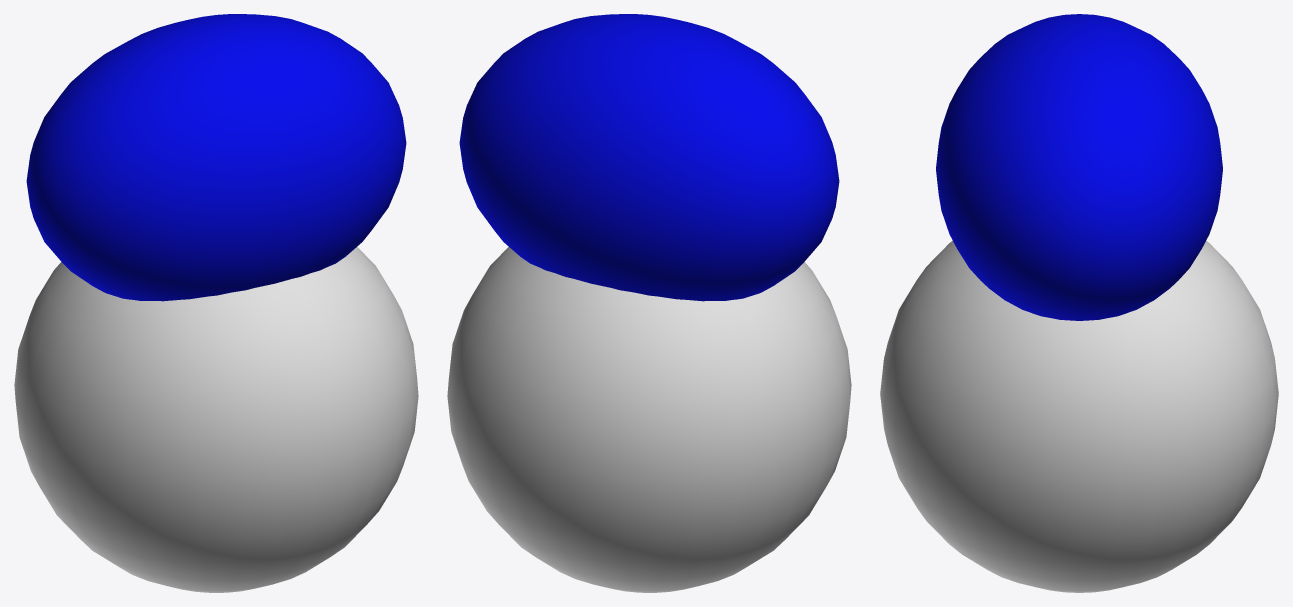
Rendered from Fresnel_Test___1.glb.
3 renders of one model, left to right at view 1: azimuth 30°, elevation 25°; view 2: azimuth 150°, elevation 25°; view 3: azimuth 270°, elevation 25°, orthographic.
Visible parts, largest first — view 1: 球, 球.001; view 2: 球, 球.001; view 3: 球, 球.001.
Boxes of the visible parts, x1,y1,x2,y2 form: 球: (14,247,418,592); 球.001: (26,14,406,301); 球: (447,247,851,592); 球.001: (459,14,839,301); 球: (880,240,1278,592); 球.001: (936,14,1222,320).
Bounding box in the file's own units: 2 × 2.97 × 2.
